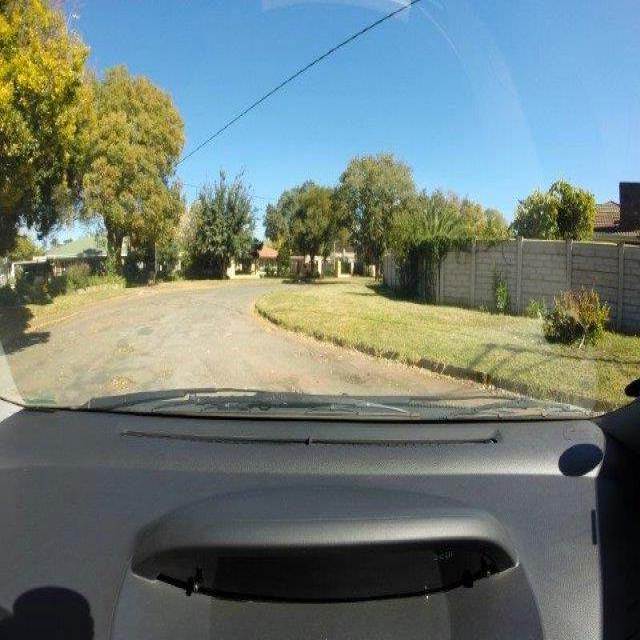lubang: (112, 338, 143, 361), (111, 379, 137, 393)
